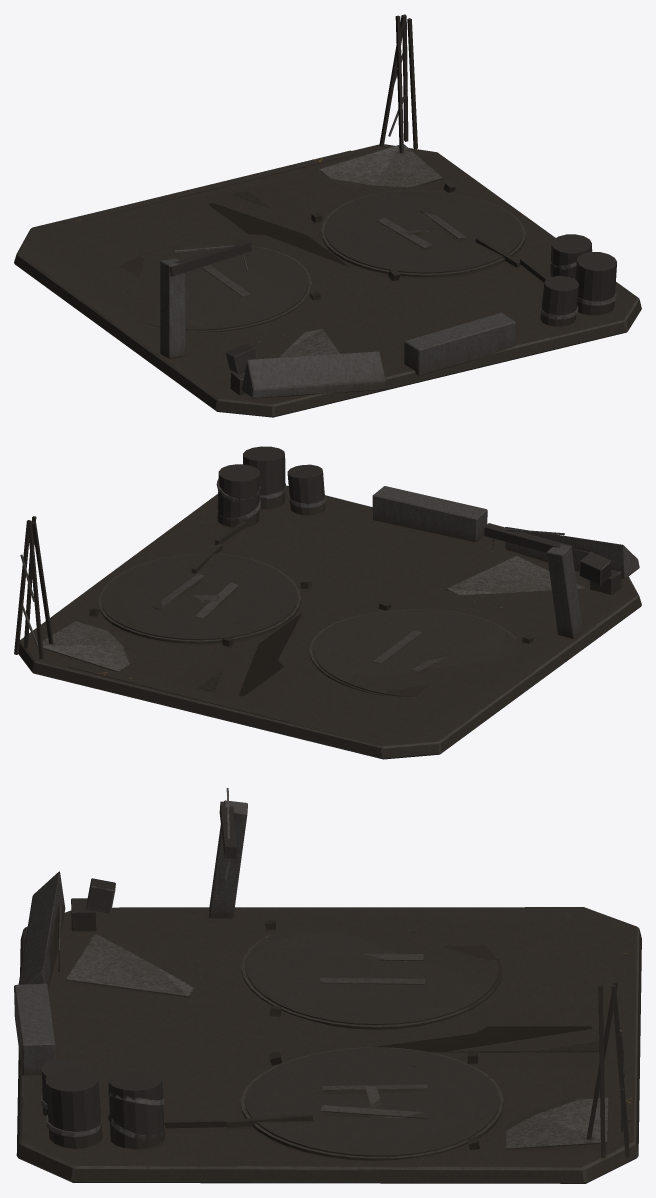
File: chs_rookery_wreck.fbx
The picture shows the model from 3 angles, top to bottom: view 1: azimuth 30°, elevation 25°; view 2: azimuth 150°, elevation 25°; view 3: azimuth 270°, elevation 25°; orthographic projection. The views are drawn at different scales.
Parts seen in each view (by area): view 1: base_bar; view 2: base_bar; view 3: base_bar.
Part boxes in pixels (x1=…): base_bar: x1=14, y1=14, x2=641, y2=417; base_bar: x1=14, y1=446, x2=641, y2=759; base_bar: x1=14, y1=788, x2=641, y2=1183.
Size of the model in its own units: 3006 by 1170 by 3031.
Materials: 2 (2 with a texture image).
